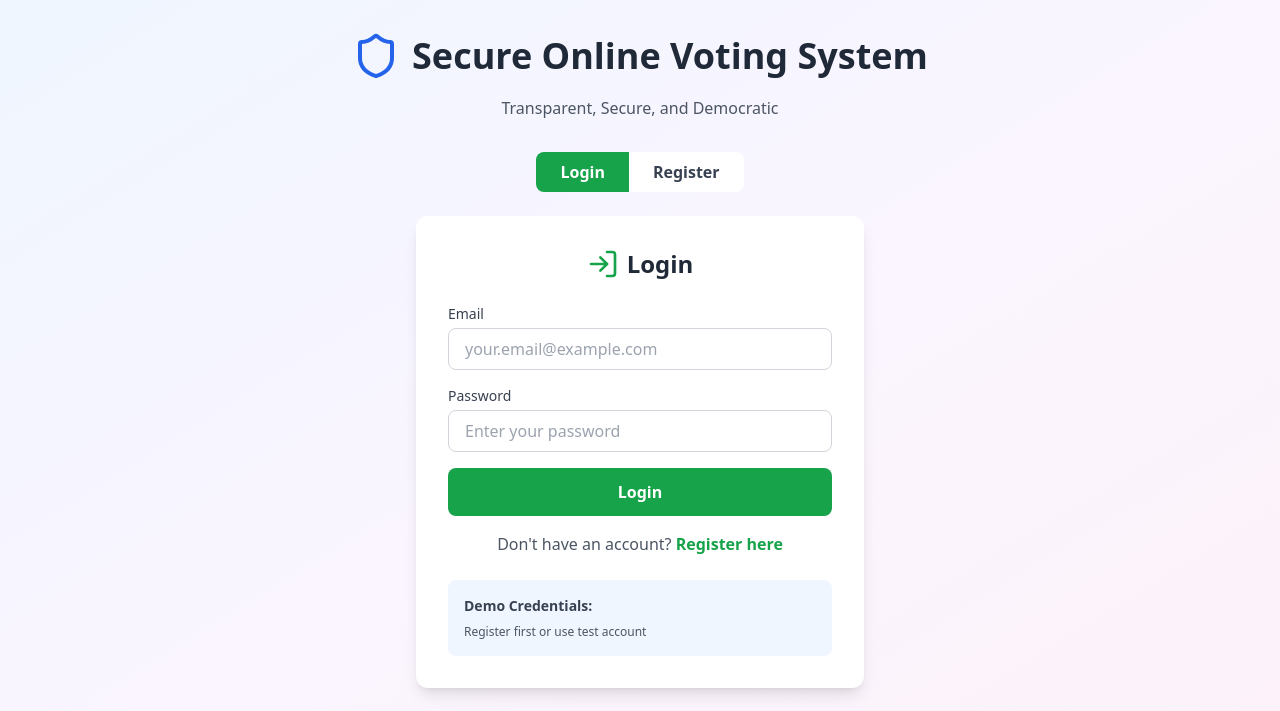
Test: Online Voting System - Complete E2E Test Suite › User Registration Flow › TC-003: Should show error for empty fields
The width and height of the screenshot is (1280, 711).
Click the button with test id "tab-register" at (687, 172), box [629,152,744,192]
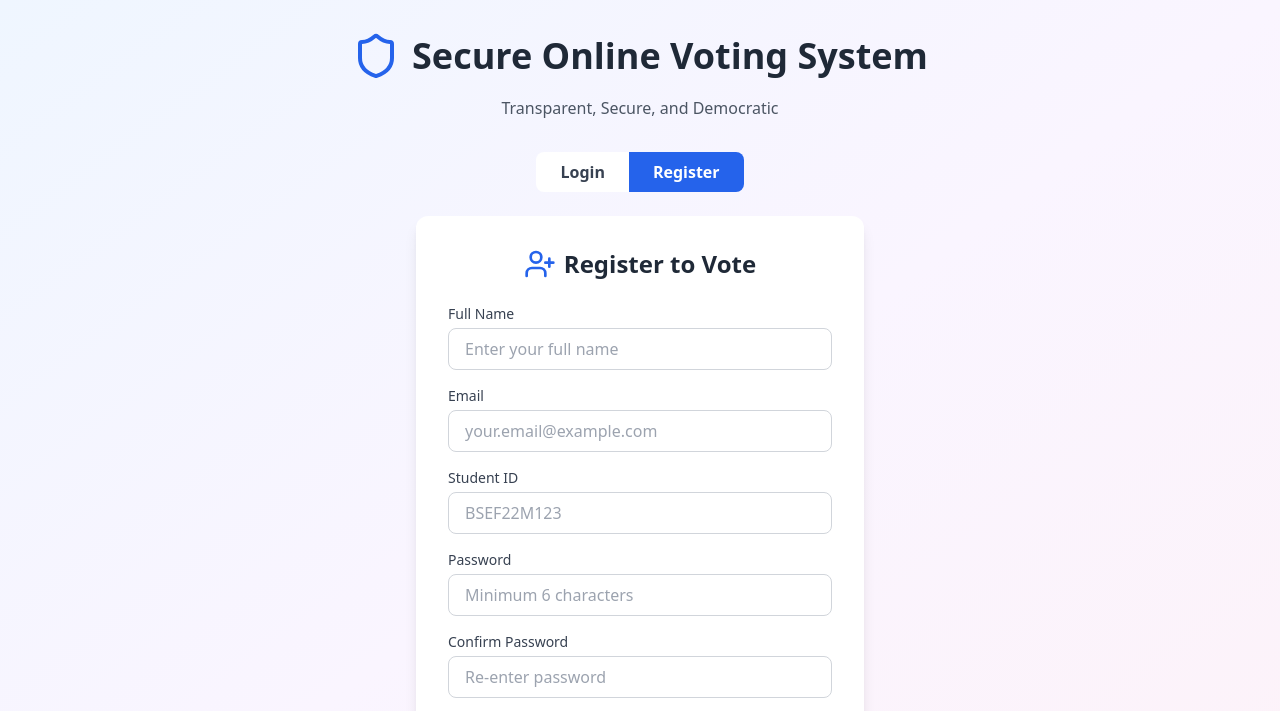
Scroll
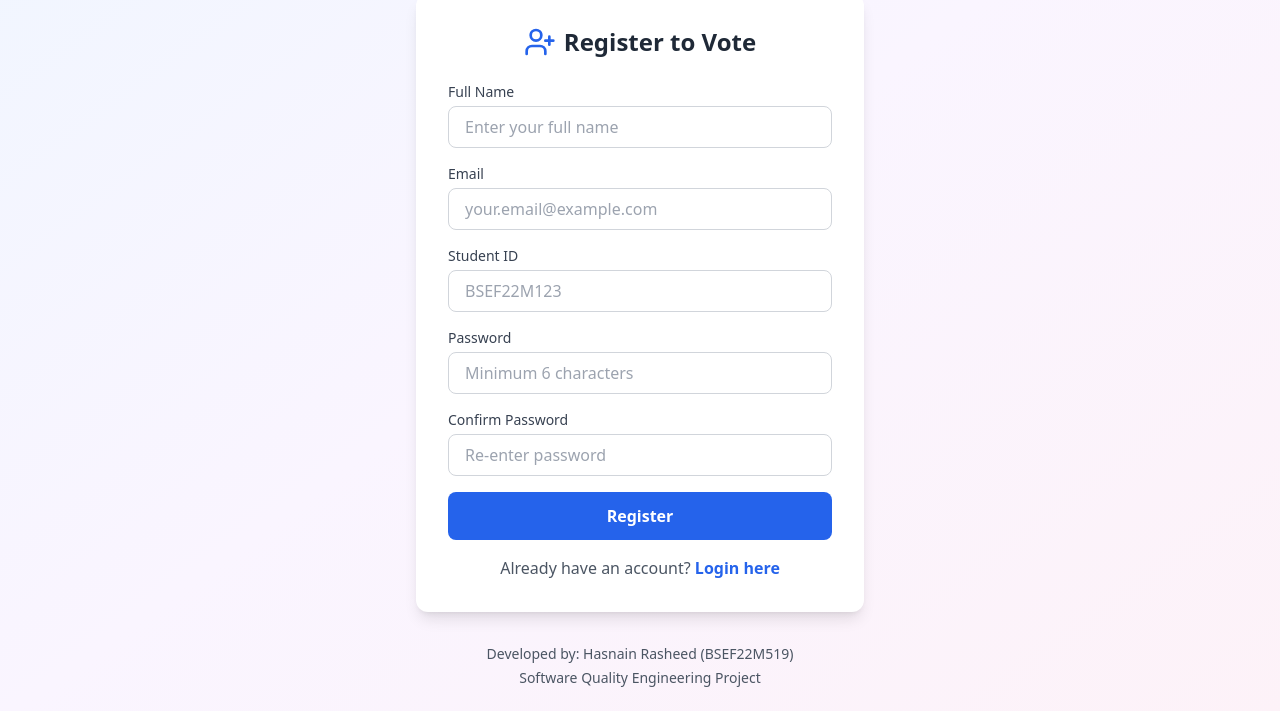
Click the button with test id "register-submit" at (640, 516), box [448,492,832,540]
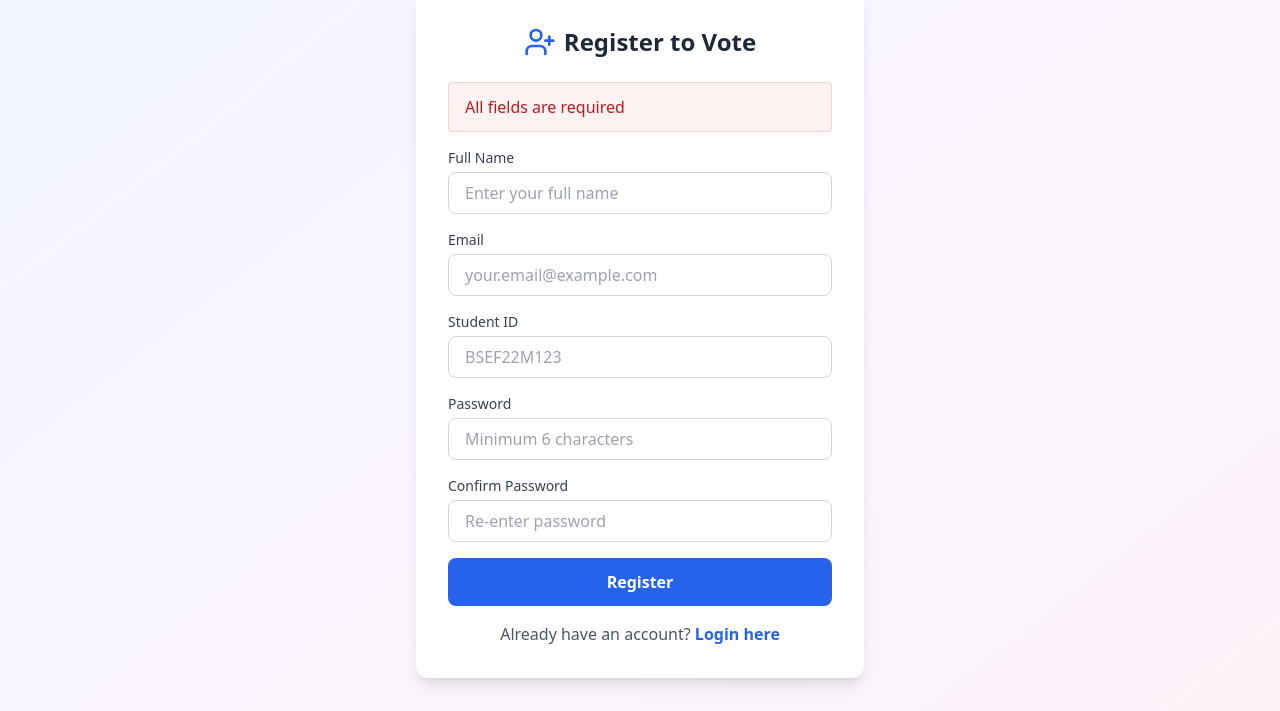
Check: the text with test id "error-message" reads "All fields are required", box [465,96,625,118]
